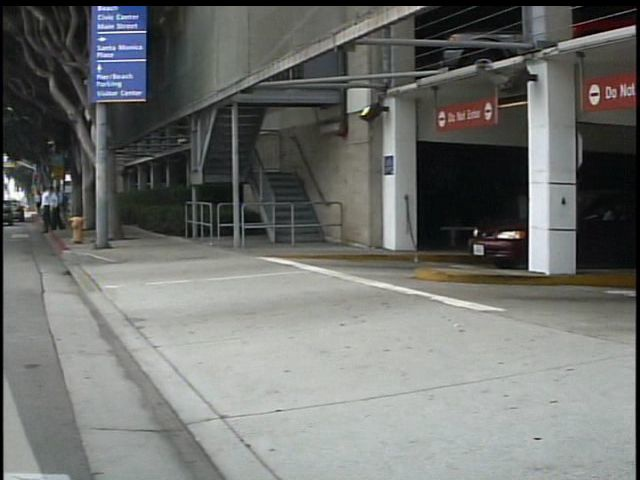person: (36, 186, 52, 220)
